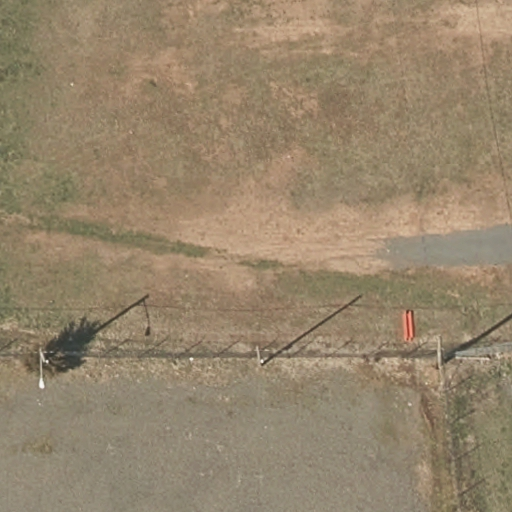DT: (34, 346, 53, 364)
